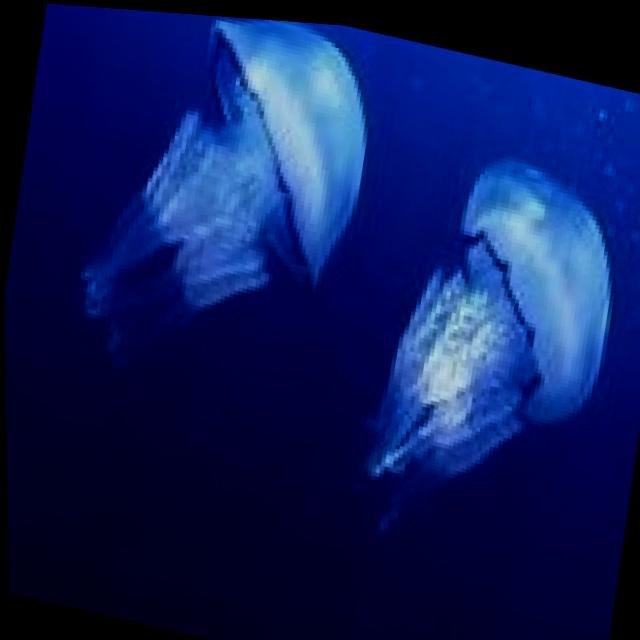Moon-jellyfish: (341, 118, 639, 574), (64, 4, 390, 416)
